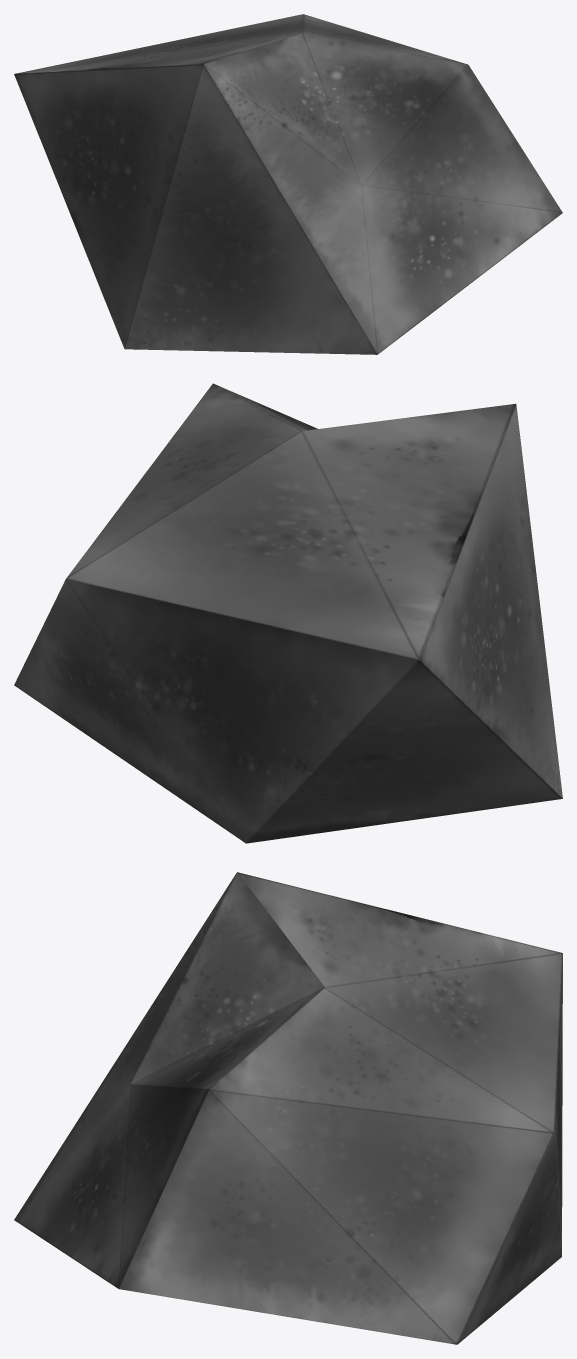
Rendered from big_stone.obj.
3 views of the same model, one above another, from view 1: azimuth 30°, elevation 25°; view 2: azimuth 150°, elevation 25°; view 3: azimuth 270°, elevation 25° (orthographic). The views are drawn at different scales.
Visible parts, largest first — view 1: Icosphere_Icosphere.004; view 2: Icosphere_Icosphere.004; view 3: Icosphere_Icosphere.004.
Part boxes in pixels (left/top/right/bottom): Icosphere_Icosphere.004: left=14, top=14, right=562, bottom=354; Icosphere_Icosphere.004: left=14, top=383, right=562, bottom=843; Icosphere_Icosphere.004: left=14, top=872, right=562, bottom=1344.
Size of the model in its own units: 1.62 by 1.2 by 1.7.
